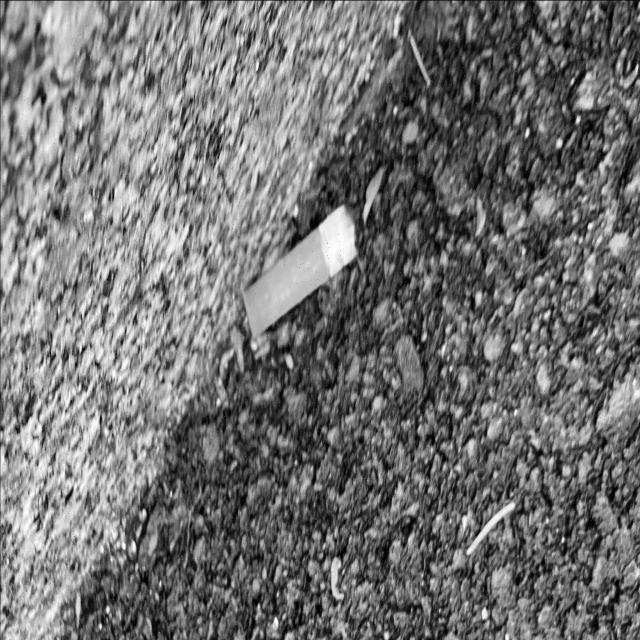other waste: (242, 200, 362, 339)
